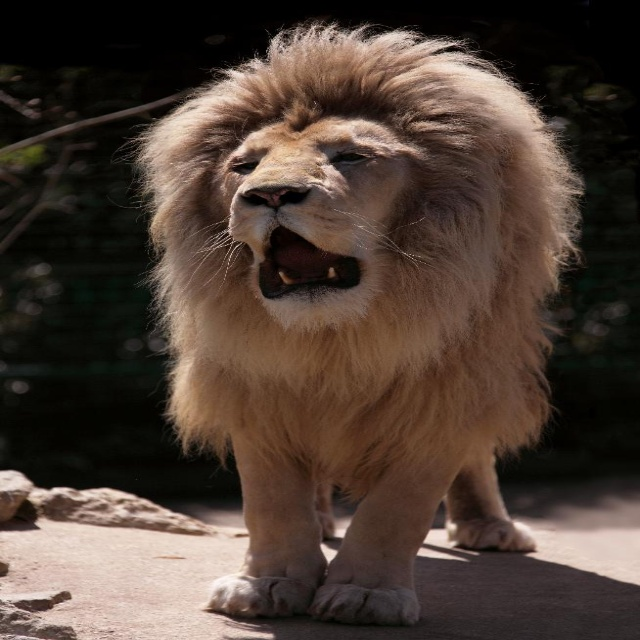Lion: (111, 17, 587, 630)
